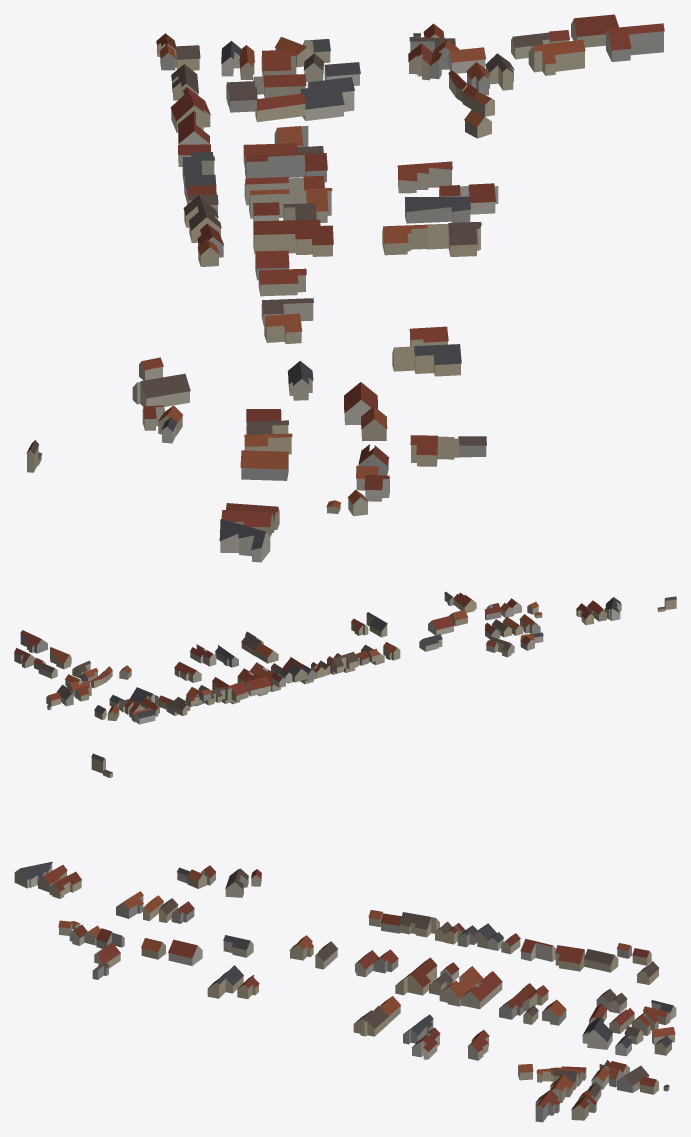
The picture shows the model from 3 angles, top to bottom: view 1: azimuth 30°, elevation 25°; view 2: azimuth 150°, elevation 25°; view 3: azimuth 270°, elevation 25°; orthographic projection. The views are drawn at different scales.
Parts seen in each view (by area): view 1: buildings; view 2: buildings; view 3: buildings.
Part boxes in pixels (x1=…): buildings: x1=26, y1=14, x2=664, y2=562; buildings: x1=14, y1=591, x2=676, y2=724; buildings: x1=14, y1=753, x2=676, y2=1122.
Size of the model in its own units: 504 by 60.32 by 449.
